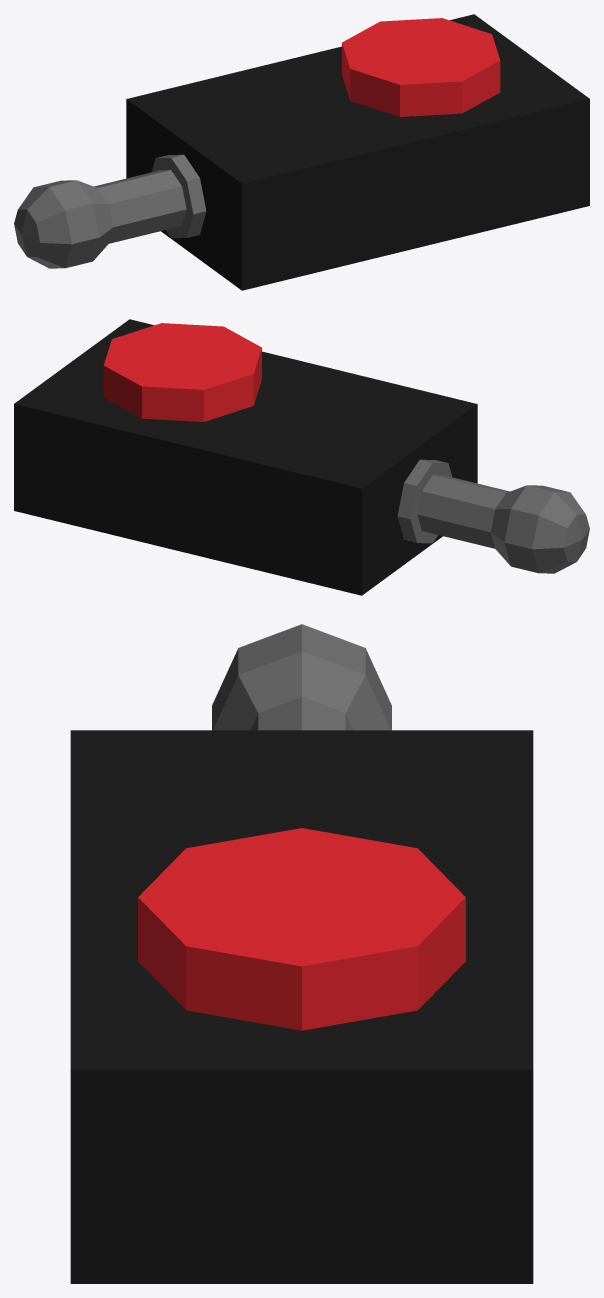
File: ComedyPressButton.fbx
3 renders of one model, top to bottom at view 1: azimuth 30°, elevation 25°; view 2: azimuth 150°, elevation 25°; view 3: azimuth 270°, elevation 25°, orthographic. The views are drawn at different scales.
Visible parts, largest first — view 1: Cube; view 2: Cube; view 3: Cube.
Boxes of the visible parts, box(x1,y1,x2,y2) form: Cube: box(14, 14, 589, 290); Cube: box(14, 319, 589, 595); Cube: box(70, 624, 533, 1283).
Size of the model in its own units: 623 by 162 by 244.
